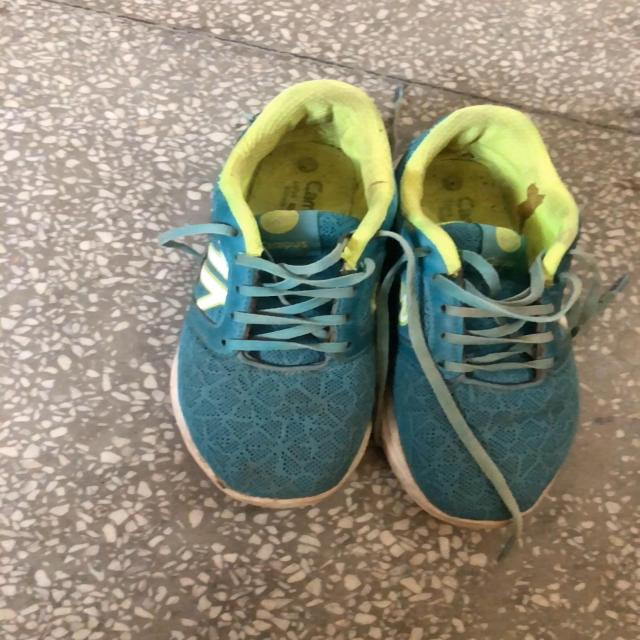shoe: (160, 80, 398, 513), (394, 106, 586, 527)
